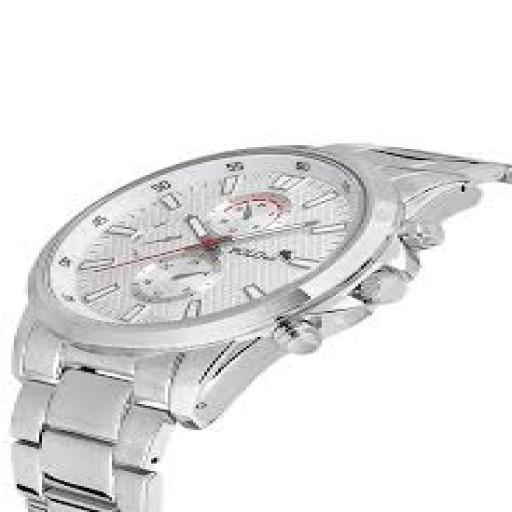KolSaati: (3, 113, 512, 512)
